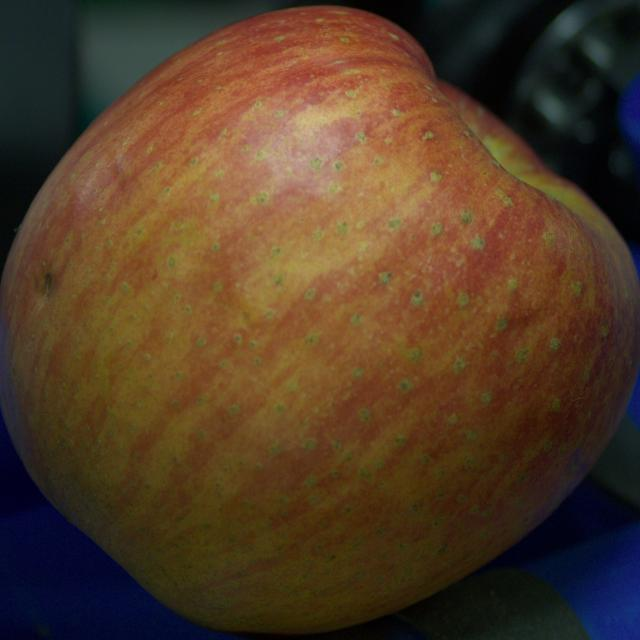apple: (0, 7, 639, 633)
pest: (45, 274, 52, 295)
